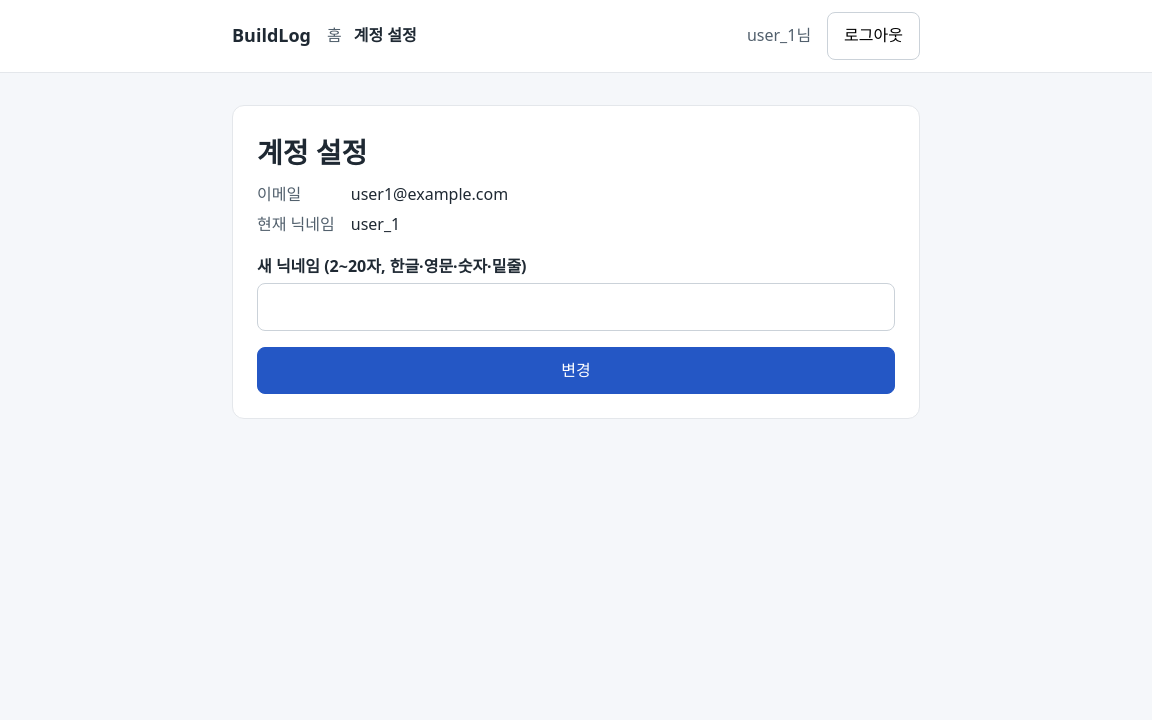
닉네임 변경 › 실패하면 이유를 알려주고 입력한 닉네임을 유지한다
The width and height of the screenshot is (1152, 720).
Expected: the heading "계정 설정" is shown, top-left (257, 133), bottom-right (367, 171)
Type "taken" into the field labelled "새 닉네임 (2~20자, 한글·영문·숫자·밑줄)" at {"x": 576, "y": 307}, box top-left (257, 283), bottom-right (895, 331)
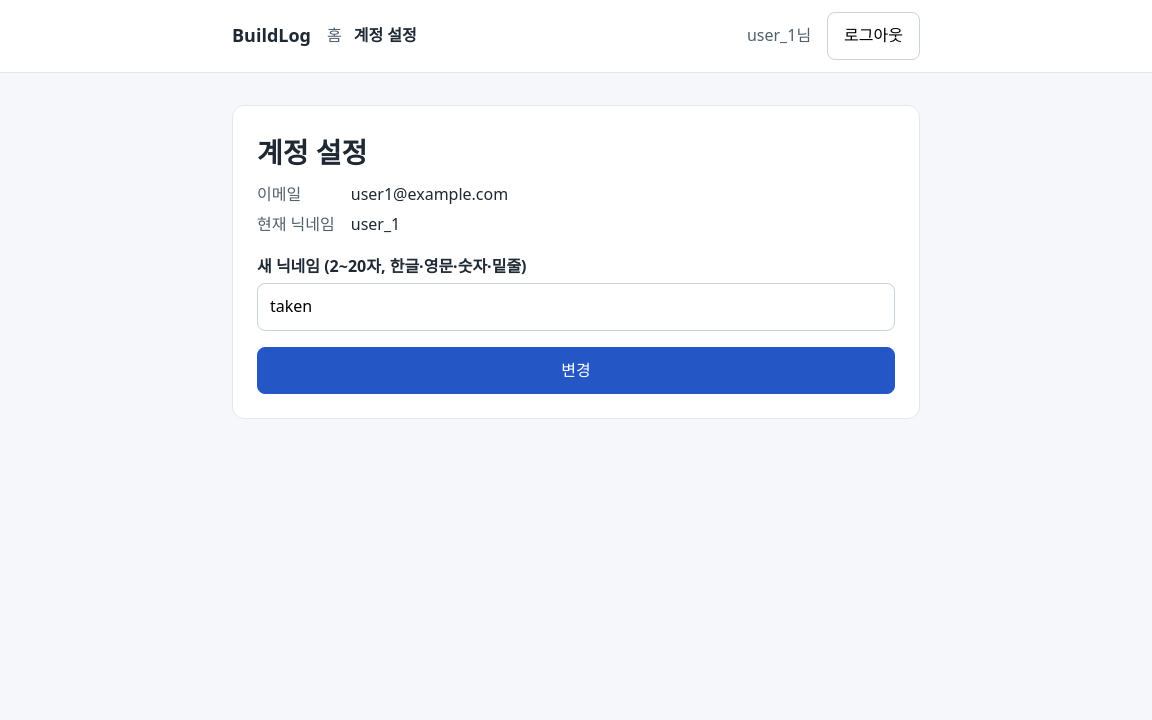
Click the button "변경" at {"x": 576, "y": 371}, box top-left (257, 347), bottom-right (895, 394)
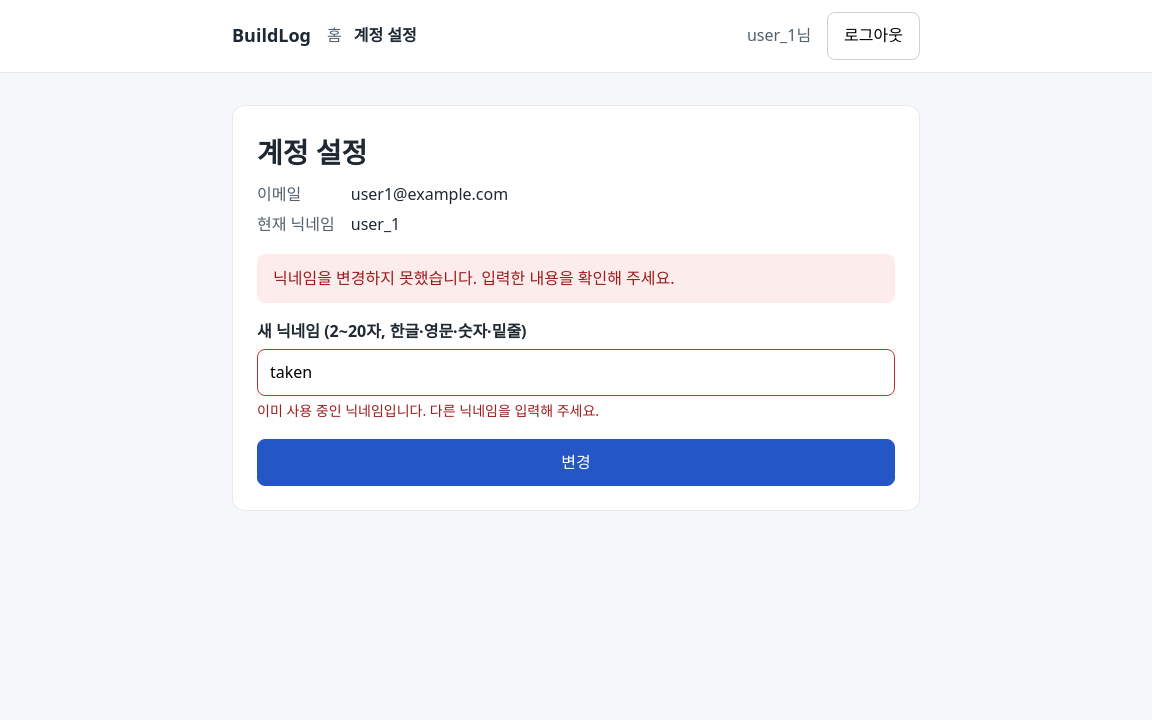
Expected: the text with test id "current-nickname" reads "user_1", top-left (351, 213), bottom-right (400, 235)
Expected: the text "이미 사용 중인 닉네임입니다. 다른 닉네임을 입력해 주세요." is shown, top-left (257, 401), bottom-right (599, 420)
